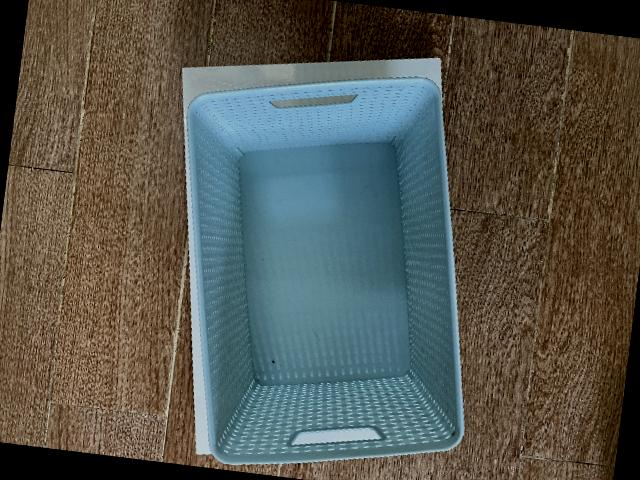cart: (184, 75, 466, 463)
